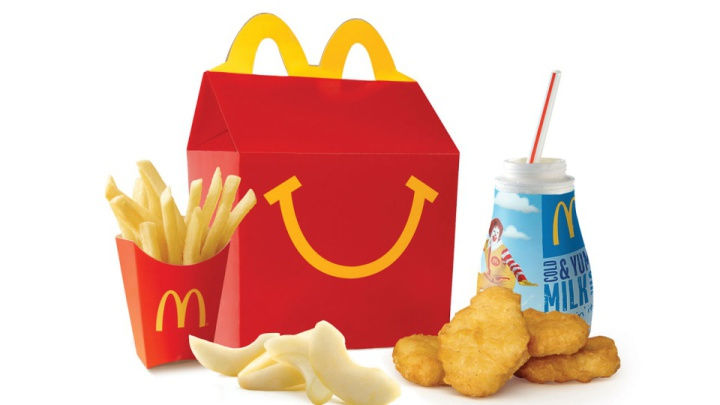mcdonalds: (152, 284, 211, 335)
